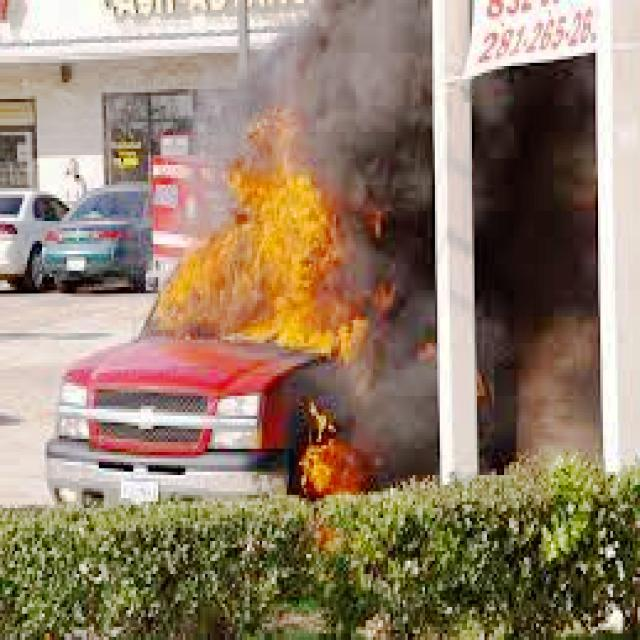api: (164, 110, 406, 354), (285, 384, 384, 503)
